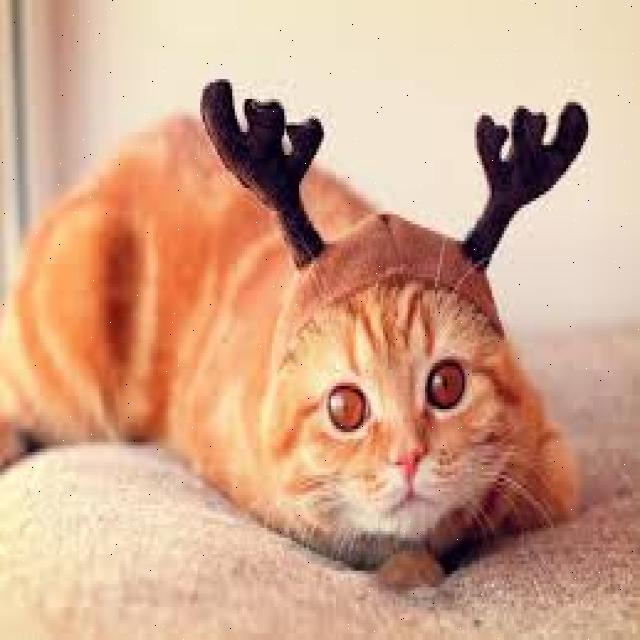cat: (0, 79, 586, 581)
